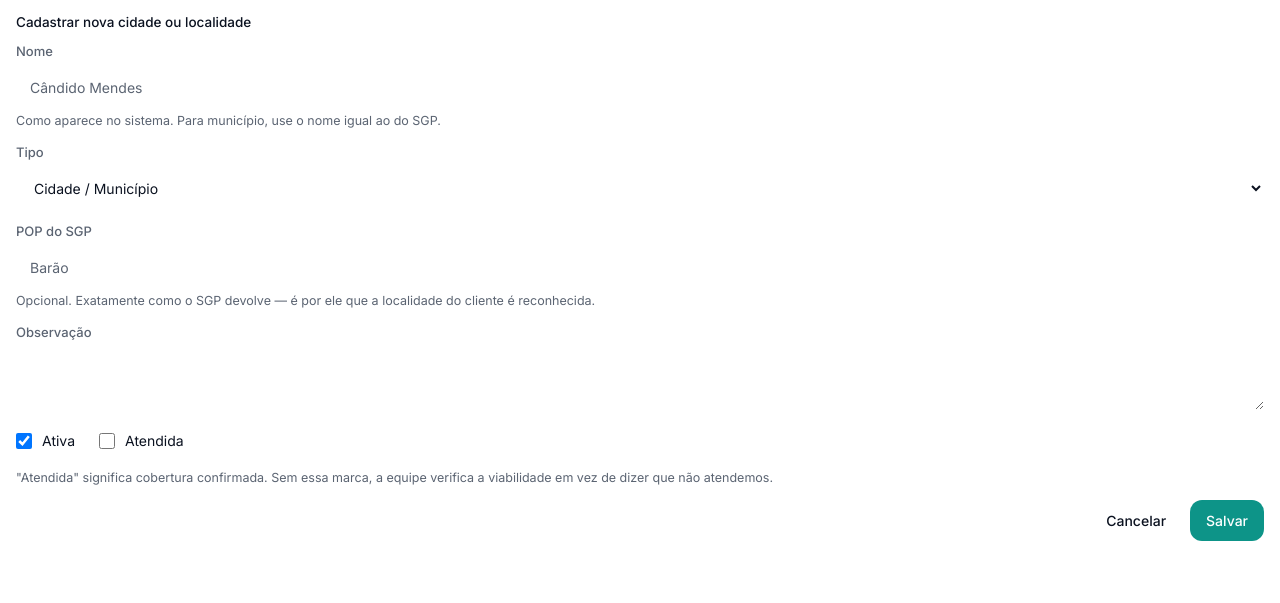
CityForm › o 409 de POP repetido explica o conflito
The width and height of the screenshot is (1280, 603).
Type "Repetido" into the field labelled "Nome".
click(640, 88); type("Repetido")  # box [16,68,1264,108]
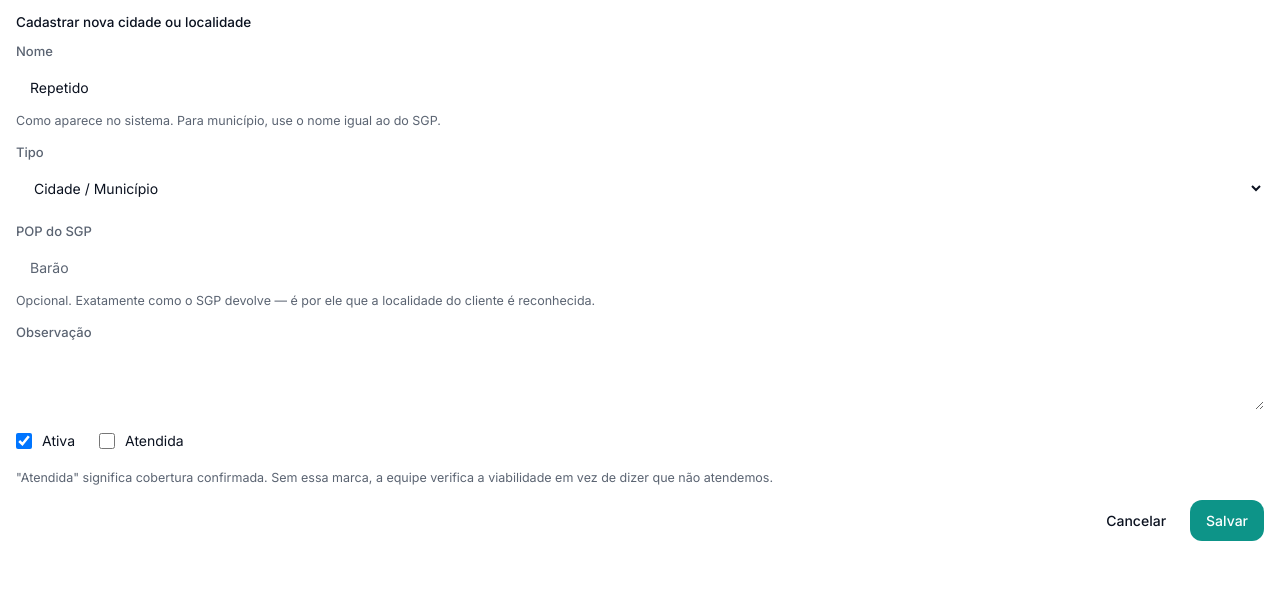
Type "Barao" into the field labelled "POP do SGP".
click(640, 268); type("Barao")  # box [16,248,1264,288]
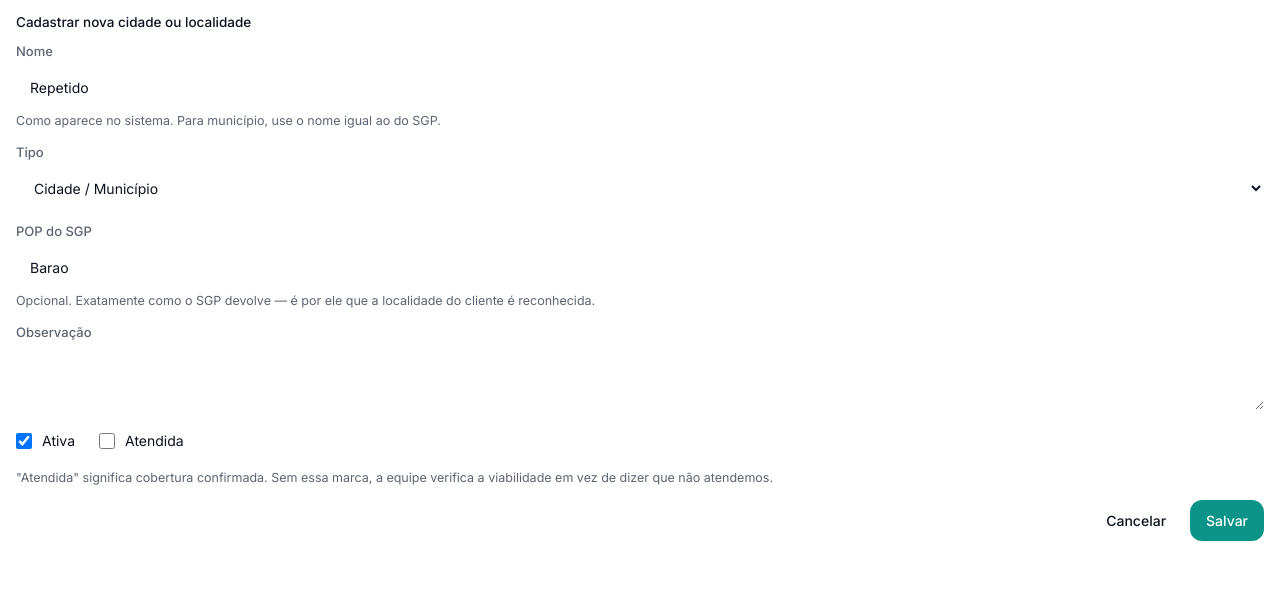
Click the button "Salvar".
click(1227, 521)  # box [1190,500,1264,541]
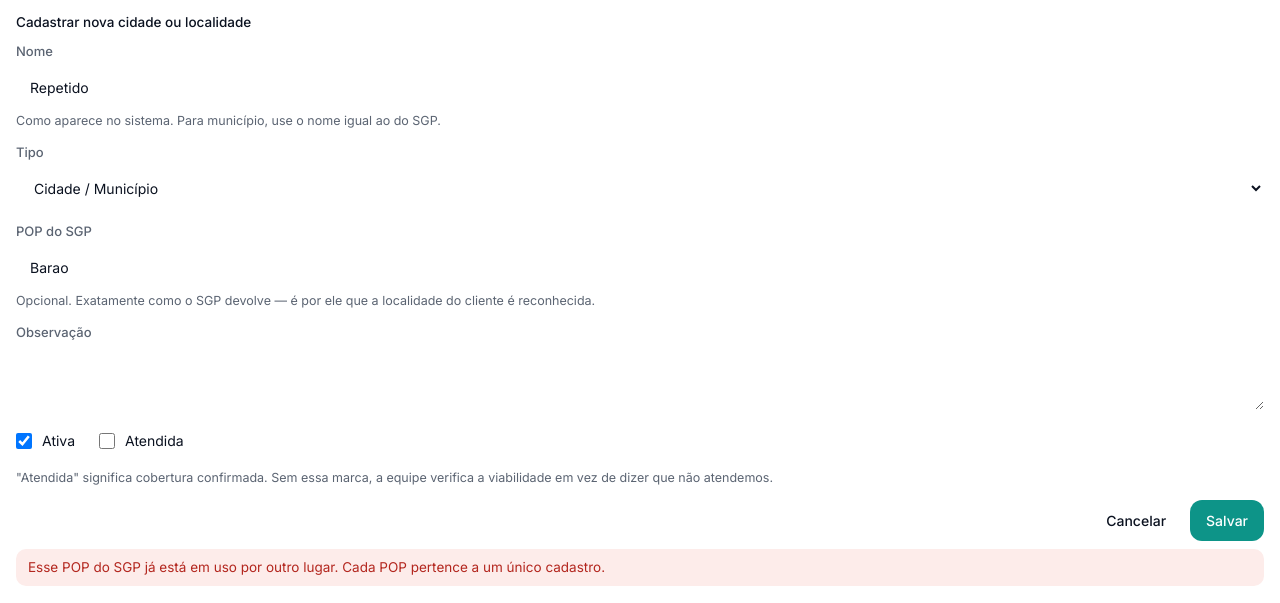
Now the message shows "POP", box [28,559,605,575]
